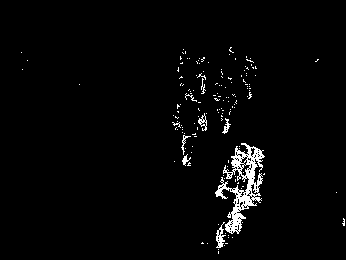person: (171, 87, 209, 169), (211, 67, 237, 133), (240, 55, 258, 101)
